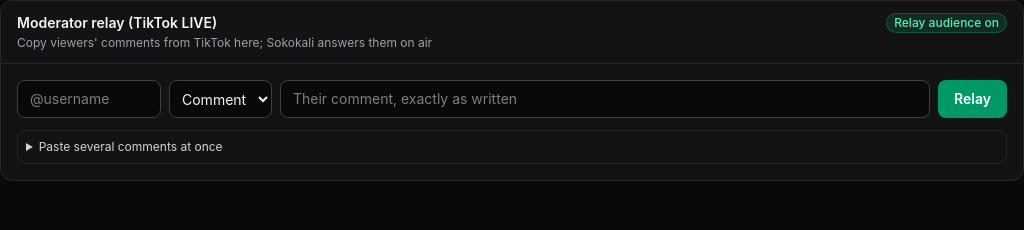
it: RelayPanel › relays a comment with the admin token and shows the result
Type "@Wanjiku_254" into the field named "TikTok username". click: (89, 99)
box: [17,80,161,118]
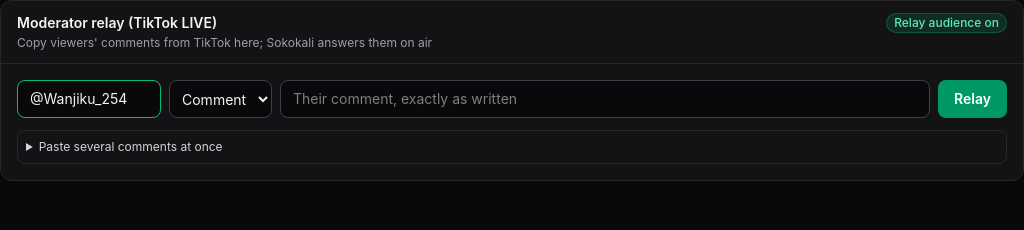
Type "Arsenal vs Chelsea nani atashinda?" into the field labelled "comment". click: (605, 99)
box: [280,80,930,118]
Then press Enter
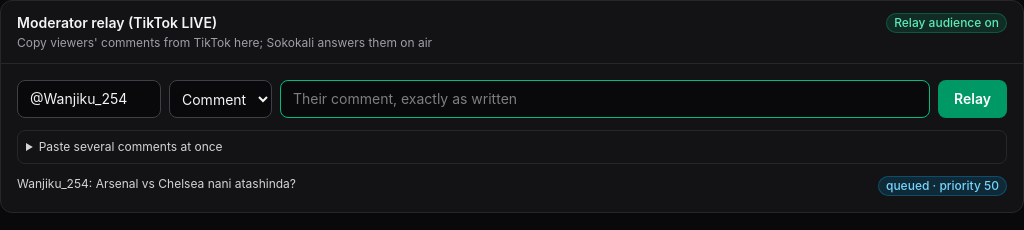
Now the text "queued · priority 50" is shown, box [878,176,1007,196]
